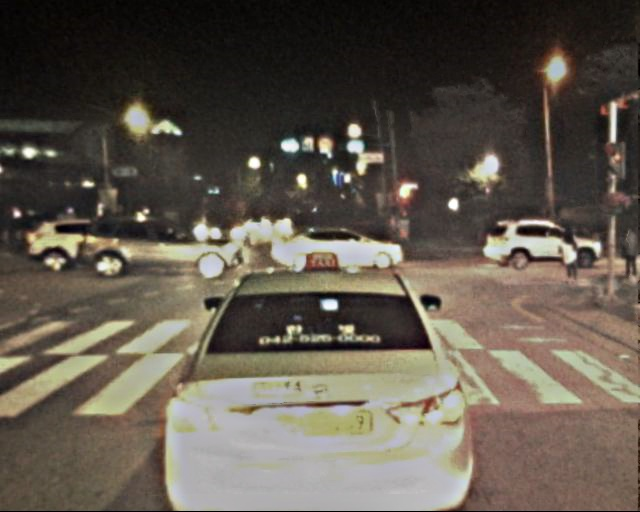person: (560, 228, 584, 285), (617, 228, 639, 286)
